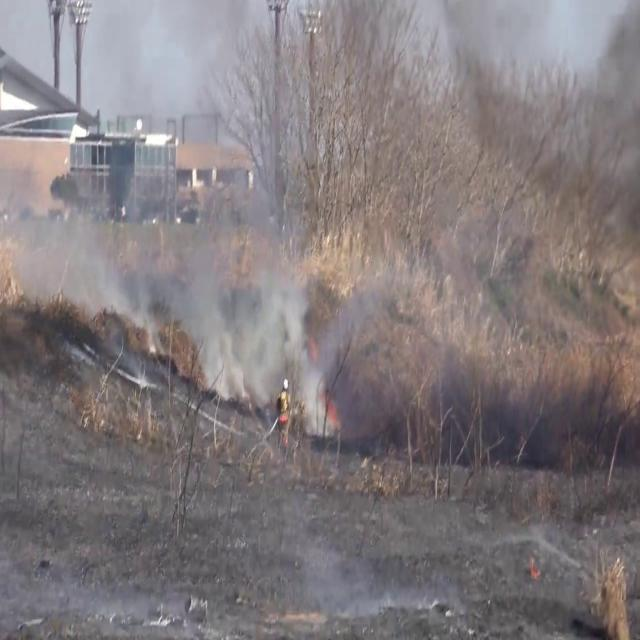Smoke: (8, 4, 328, 420)
